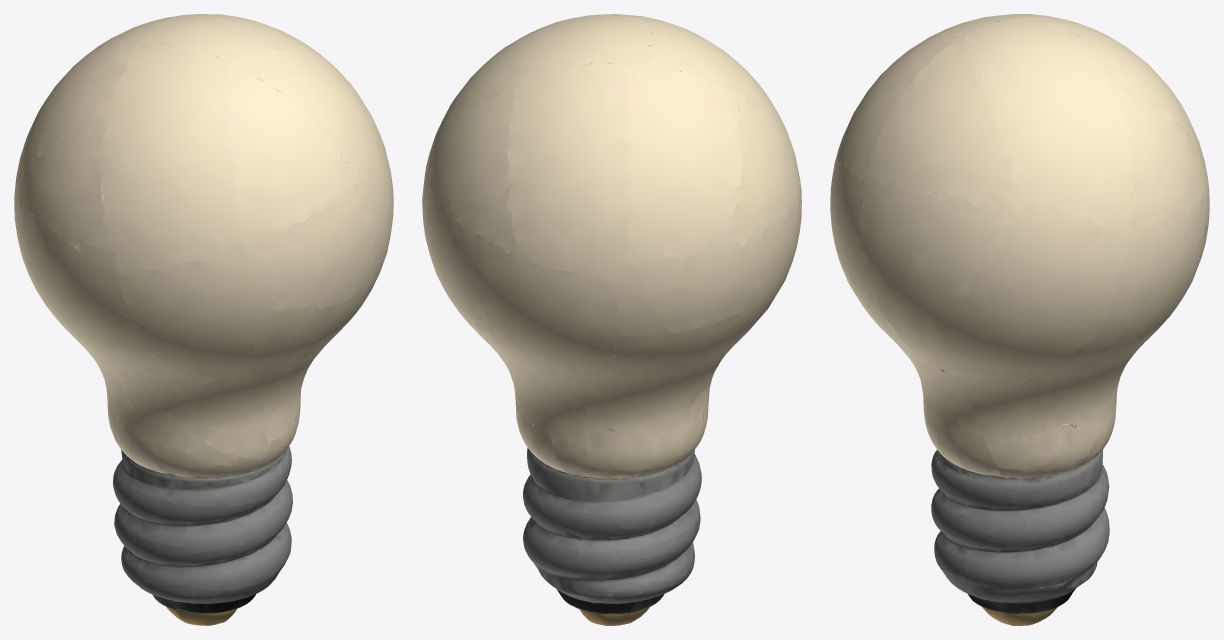
Rendered from lightbulb.glb.
3 renders of one model, left to right at view 1: azimuth 30°, elevation 25°; view 2: azimuth 150°, elevation 25°; view 3: azimuth 270°, elevation 25°, orthographic.
Parts seen in each view (by area): view 1: Mesh_0; view 2: Mesh_0; view 3: Mesh_0.
Boxes of the visible parts, x1,y1,x2,y2 form: Mesh_0: (14,14,393,625); Mesh_0: (422,14,801,625); Mesh_0: (830,14,1209,625).
Size of the model in its own units: 1 by 1.71 by 0.9994.
Materials: 1 (1 with a texture image).
